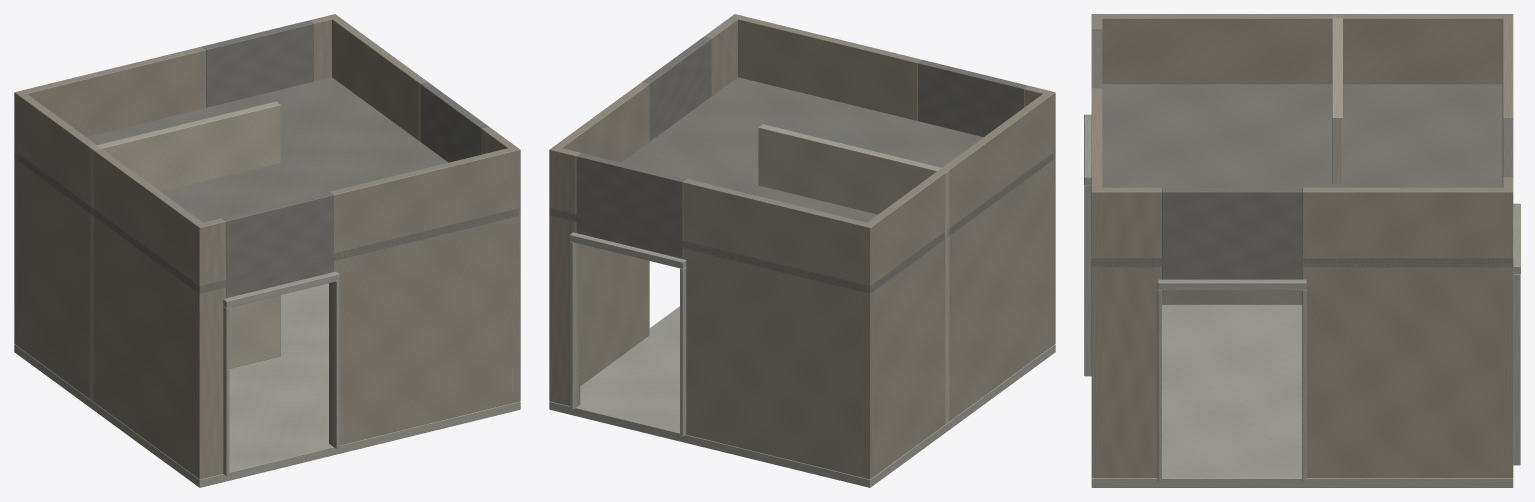
Rendered from I06_SideExitRoom_visual.glb.
3 views of the same model, side by side, from view 1: azimuth 30°, elevation 25°; view 2: azimuth 150°, elevation 25°; view 3: azimuth 270°, elevation 25° (orthographic). The views are drawn at different scales.
Parts seen in each view (by area): view 1: I06_SideExitRoom__VIS_shell, I06_SideExitRoom__VIS_roof; view 2: I06_SideExitRoom__VIS_shell, I06_SideExitRoom__VIS_roof; view 3: I06_SideExitRoom__VIS_shell, I06_SideExitRoom__VIS_roof.
Boxes of the visible parts, box(x1,y1,x2,y2) form: I06_SideExitRoom__VIS_shell: box(14, 14, 520, 487); I06_SideExitRoom__VIS_roof: box(14, 77, 520, 293); I06_SideExitRoom__VIS_shell: box(549, 14, 1055, 487); I06_SideExitRoom__VIS_roof: box(549, 77, 1053, 293); I06_SideExitRoom__VIS_shell: box(1084, 14, 1520, 487); I06_SideExitRoom__VIS_roof: box(1091, 84, 1513, 267).
Bounding box in the file's own units: 24.43 × 18.6 × 24.86.
1 material, 1 textured.
